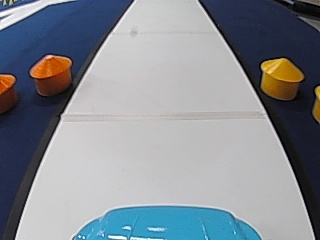granary: (27, 51, 73, 96), (258, 55, 304, 100), (0, 72, 17, 112)
